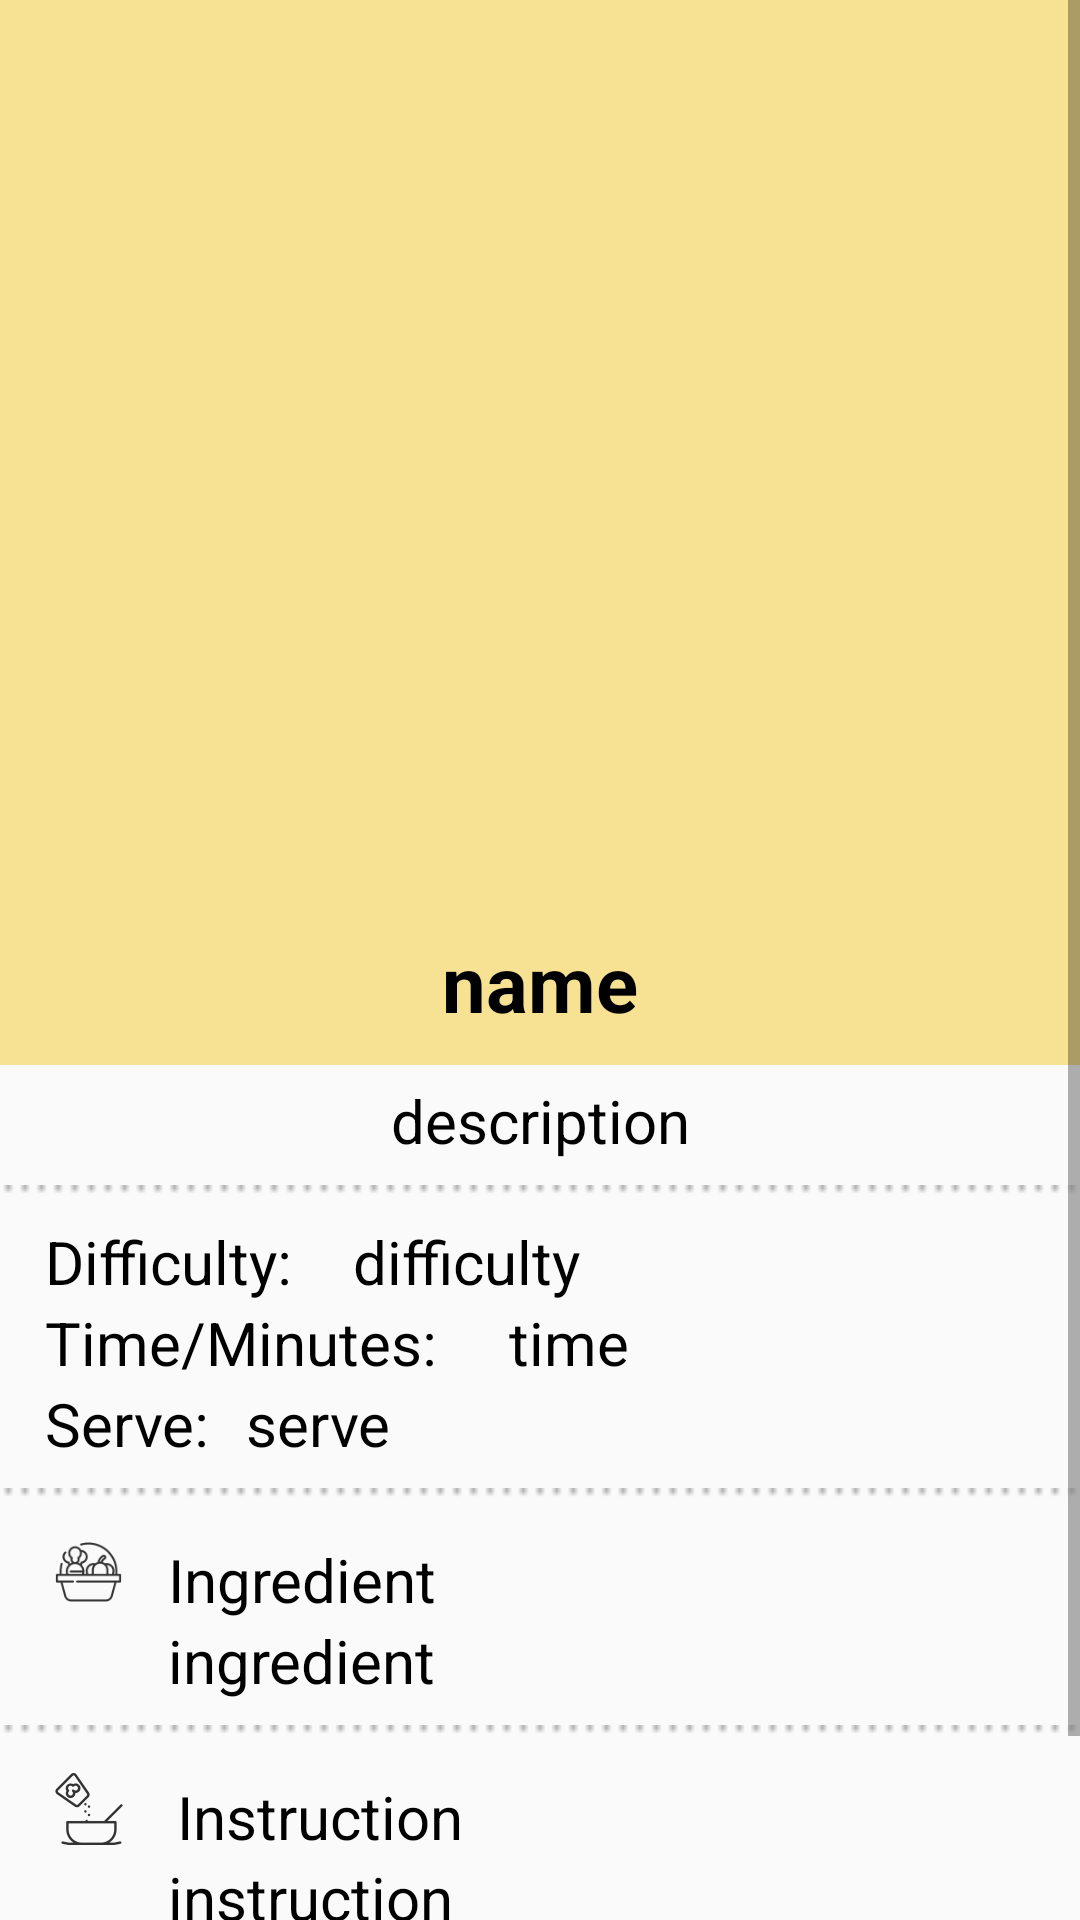

Where to tap for icons on this 1080px×1920px app screen, as (x=x, y=y):
instuction: (x=89, y=1809)
